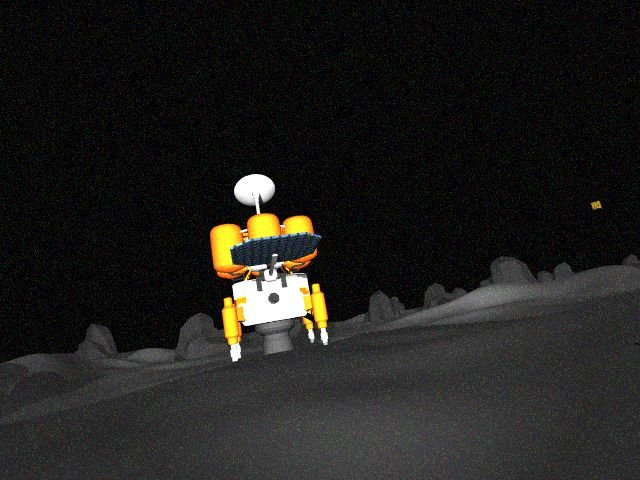homebase: (209, 174, 330, 367)
